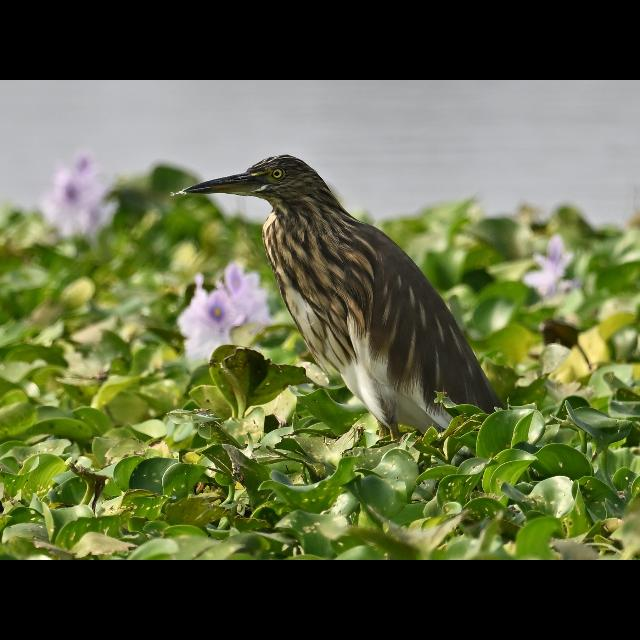heron: (173, 154, 491, 433)
